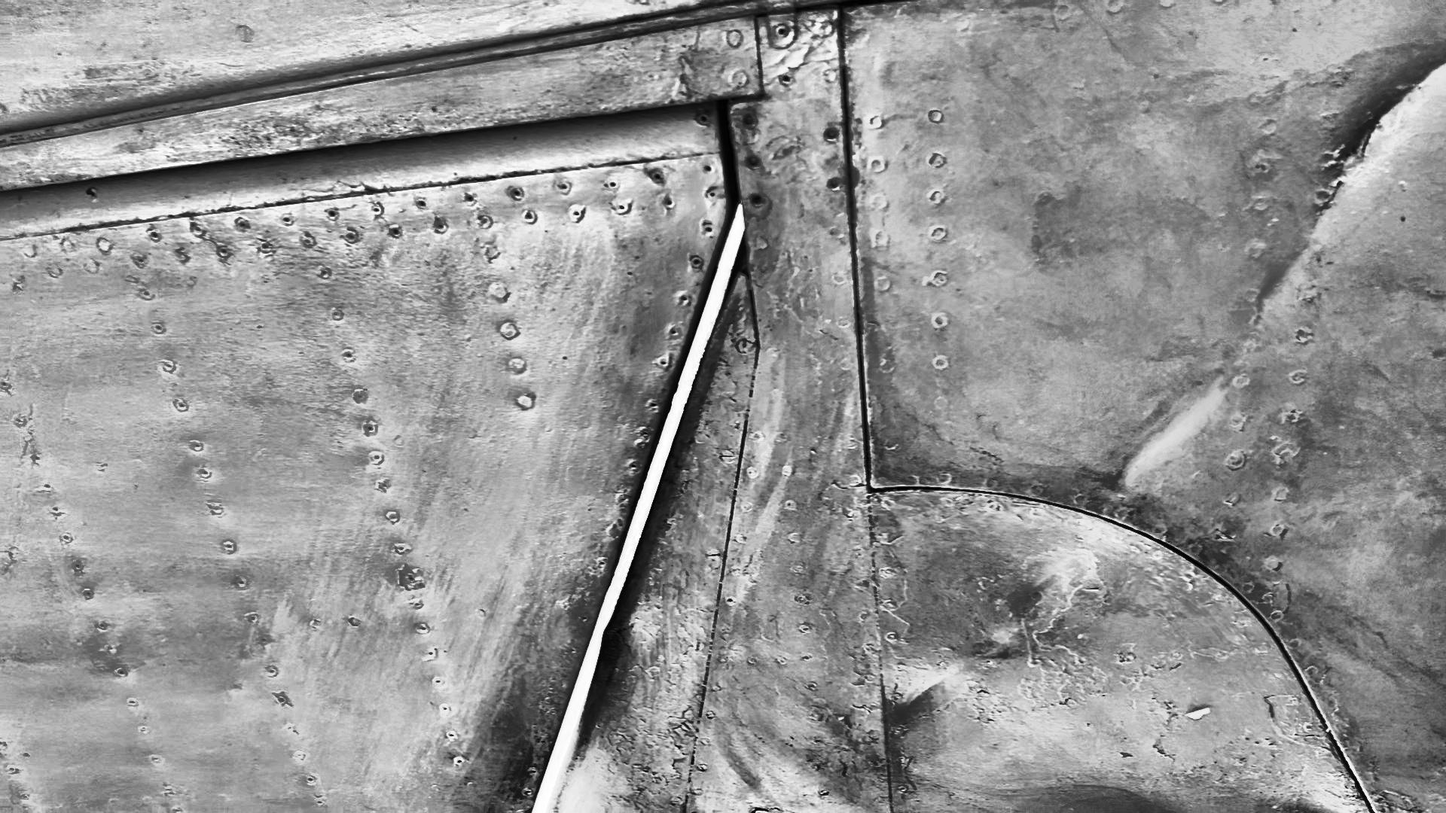dent: (1316, 56, 1446, 222), (1109, 369, 1229, 493), (1256, 243, 1316, 312), (992, 587, 1051, 647), (894, 670, 953, 721), (601, 615, 644, 666)
missing-head: (747, 154, 763, 171), (744, 111, 757, 130), (751, 194, 766, 209), (825, 128, 840, 141), (828, 177, 840, 192)
